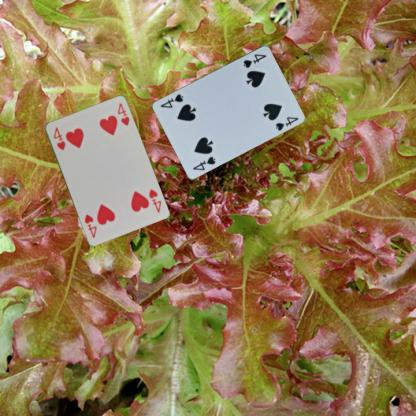4h: (146, 186, 163, 214), (51, 124, 66, 152)
4s: (241, 51, 267, 69), (190, 154, 217, 171)
